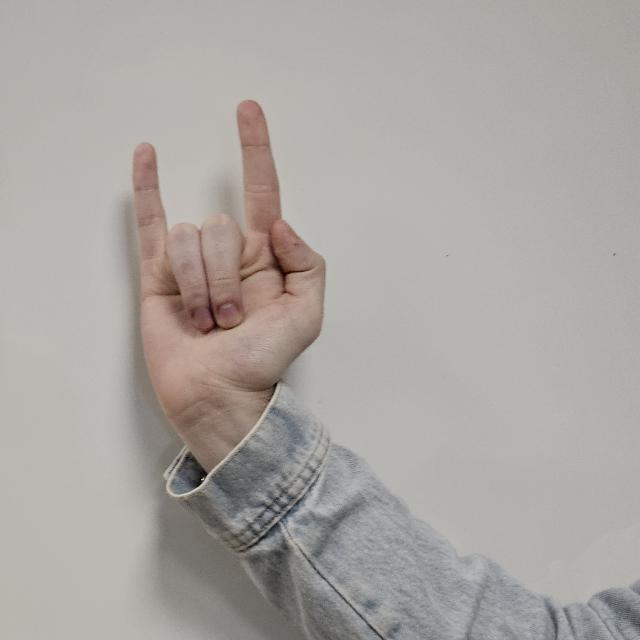L: (130, 100, 326, 410)
